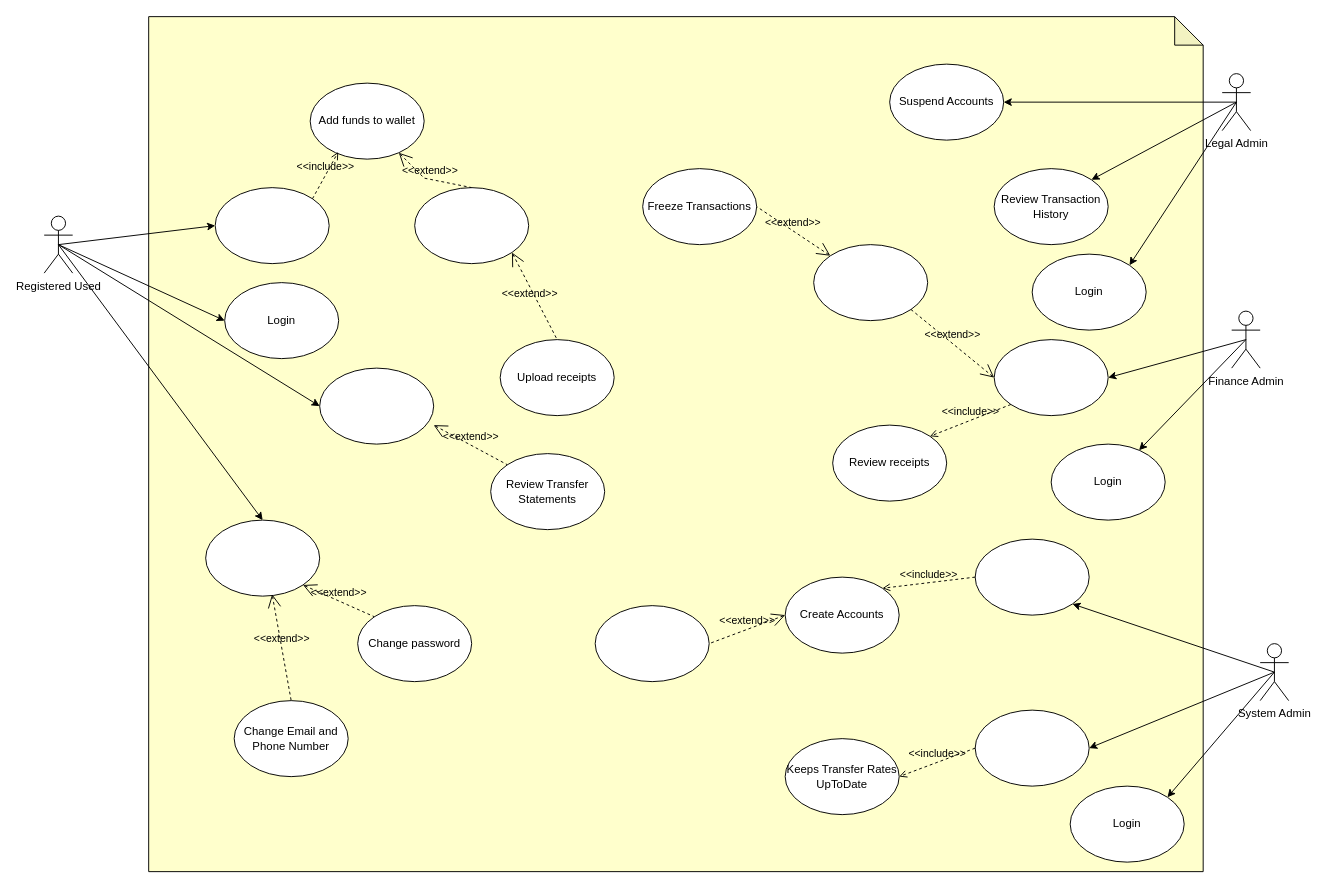
Some shapes in this 1327 by 888 pixel diagram are drawn without their labels. Here are the shapes that lost their labels. From the top down, the box of each, then its label:
(214, 187, 329, 264): Create wallet
(414, 187, 529, 264): Transfer between wallets
(813, 244, 928, 321): Report Transactions
(993, 339, 1108, 416): Inspect Transactions
(319, 367, 434, 444): Request transfer statements
(205, 519, 320, 596): Maintain Information
(974, 538, 1089, 615): Manage Database
(594, 605, 709, 682): Reset Passwords
(974, 709, 1089, 786): Maintain System Functions
